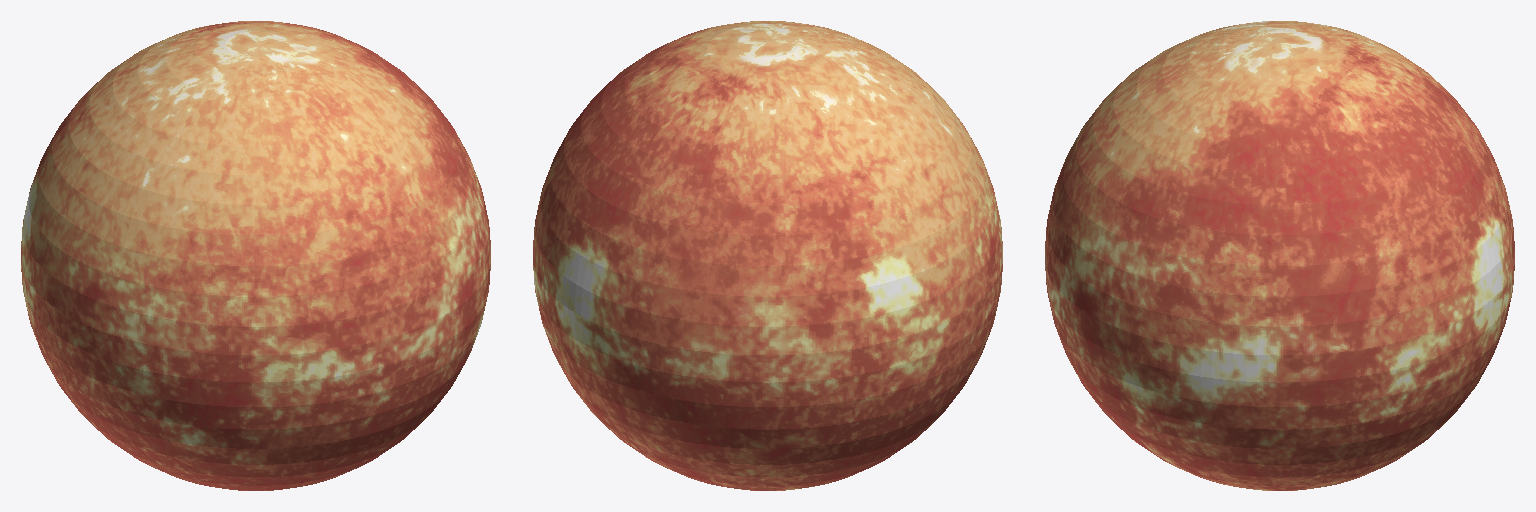
The picture shows the model from 3 angles: view 1: azimuth 30°, elevation 25°; view 2: azimuth 150°, elevation 25°; view 3: azimuth 270°, elevation 25°; orthographic projection.
Visible parts, largest first — view 1: Sphere; view 2: Sphere; view 3: Sphere.
Boxes of the visible parts, x1=… form: Sphere: x1=21, y1=21, x2=490, y2=490; Sphere: x1=533, y1=21, x2=1002, y2=490; Sphere: x1=1045, y1=21, x2=1514, y2=490.
Size of the model in its own units: 2 by 2 by 2.
Materials: 1 (1 with a texture image).